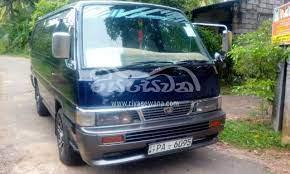Van: (26, 1, 237, 167)
